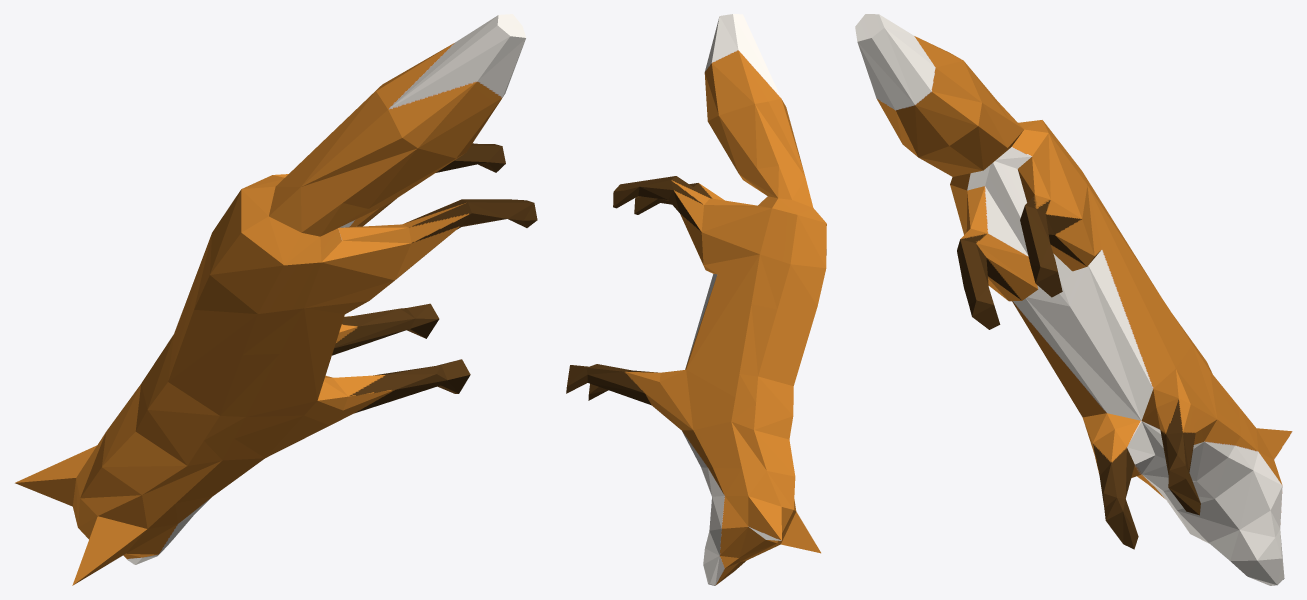
File: fox.obj
The picture shows the model from 3 angles, left to right: view 1: azimuth 30°, elevation 25°; view 2: azimuth 150°, elevation 25°; view 3: azimuth 270°, elevation 25°; orthographic projection. The views are drawn at different scales.
Visible parts, largest first — view 1: fox1.001; view 2: fox1.001; view 3: fox1.001.
Boxes of the visible parts, x1,y1,x2,y2 form: fox1.001: (15, 14, 537, 585); fox1.001: (566, 14, 826, 585); fox1.001: (855, 14, 1292, 585).
Size of the model in its own units: 79.03 by 135 by 82.19.
